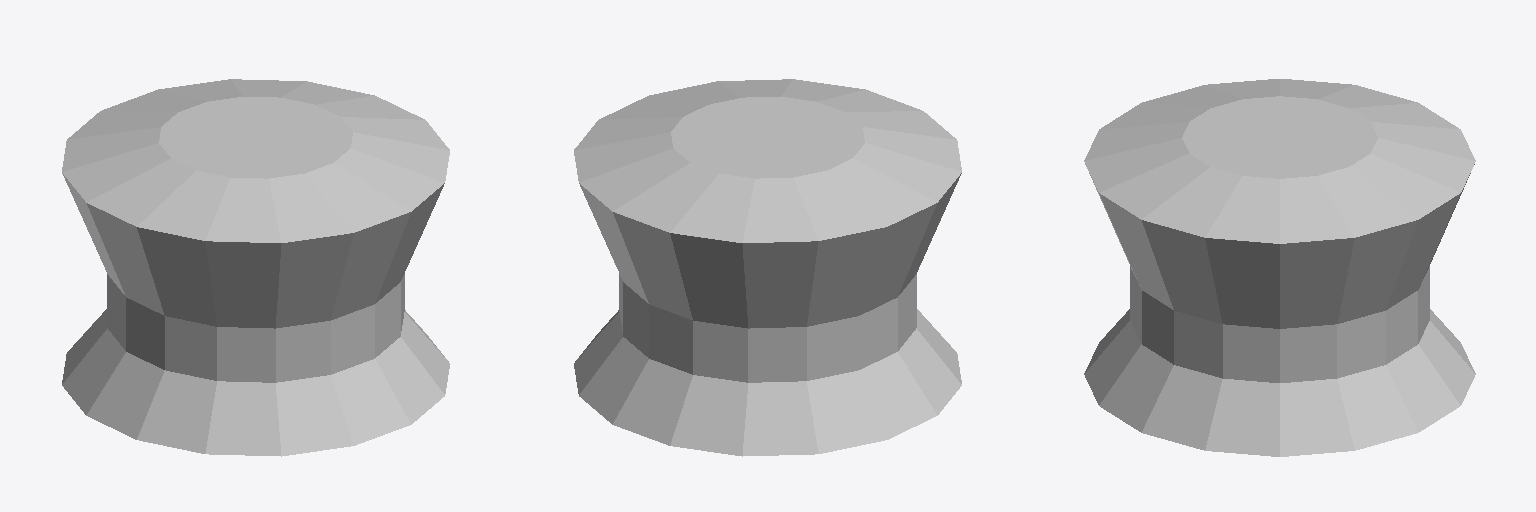
The model's file is Bumper1.obj.
The picture shows the model from 3 angles: view 1: azimuth 30°, elevation 25°; view 2: azimuth 150°, elevation 25°; view 3: azimuth 270°, elevation 25°; orthographic projection.
Visible parts, largest first — view 1: Cylinder_Cylinder.001; view 2: Cylinder_Cylinder.001; view 3: Cylinder_Cylinder.001.
Part boxes in pixels (x1,y1,x2,y2): Cylinder_Cylinder.001: (62, 79, 449, 456); Cylinder_Cylinder.001: (574, 79, 961, 456); Cylinder_Cylinder.001: (1084, 79, 1475, 456).
Bounding box in the file's own units: 1.5 × 1 × 1.5.